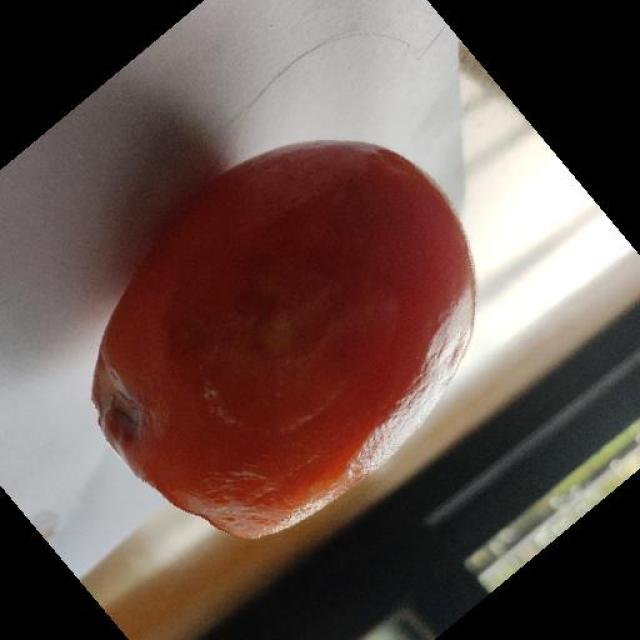Stale_tomato: (88, 141, 468, 526)
